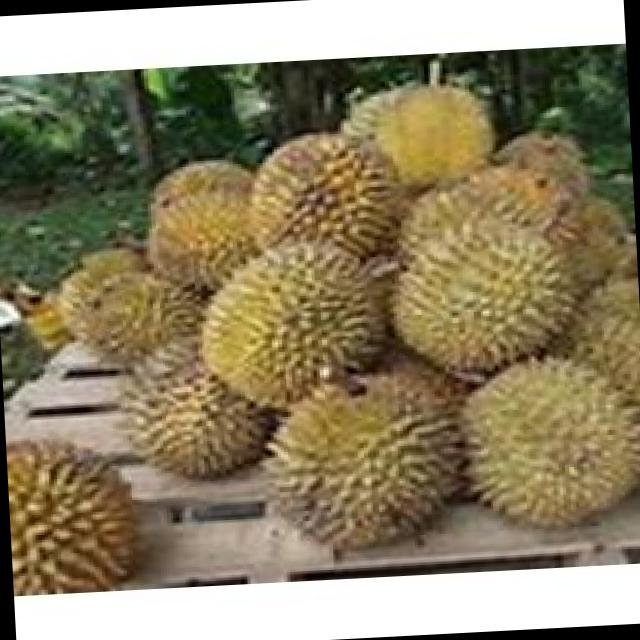fruit: (159, 112, 427, 443), (354, 128, 638, 404), (232, 336, 492, 572), (35, 223, 237, 507), (438, 328, 640, 550), (5, 414, 164, 639)
